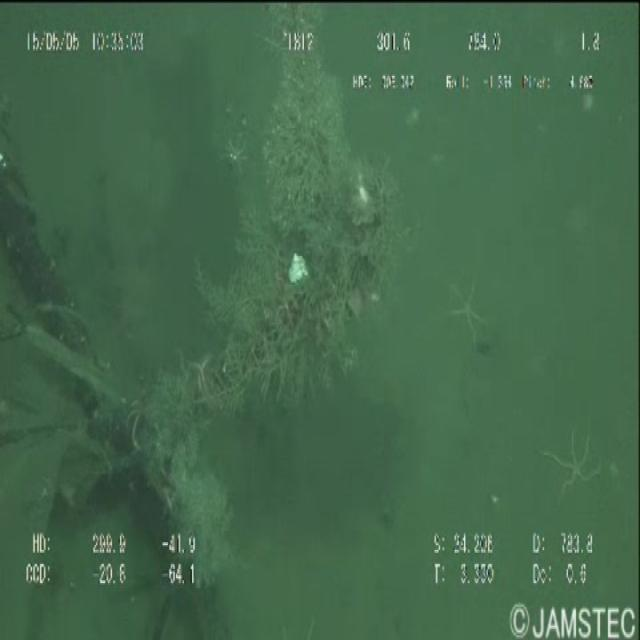Wood: (0, 142, 214, 633)
